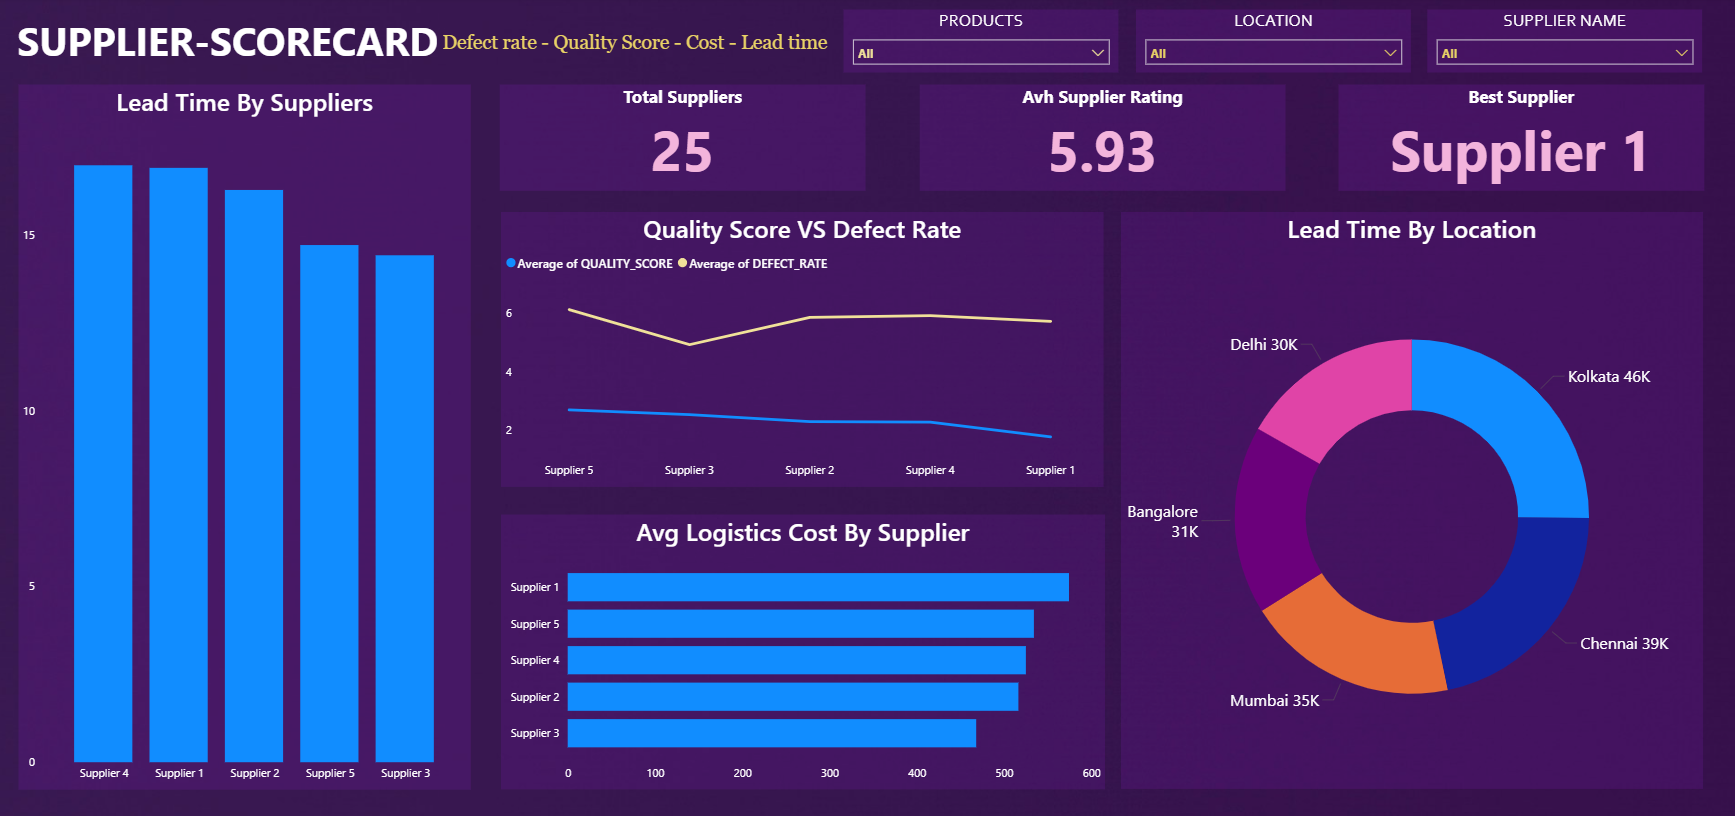

What the dashboard file says about the page in this screenshot:
{"tool":"powerbi","page":{"name":"Supplier Scorecard","canvas":[1900,900],"ordinal":1},"visuals":[{"type":"card","title":"Total Suppliers","fields":{"Values":["suppliers.Total Suppliers"]},"box":[550,95.7,399.2,116.1],"z":0},{"type":"card","title":"Avh Supplier Rating","fields":{"Values":["suppliers.Avg Supplier Rating"]},"box":[1008.3,95.7,399.2,116.1],"z":1000},{"type":"card","title":"Best Supplier","fields":{"Values":["suppliers.Best Supplier"]},"box":[1464.5,95.7,399.2,116.1],"z":2000},{"type":"columnChart","title":"Lead Time By Suppliers","fields":{"Category":["suppliers.SUPPLIER_NAME"],"Y":["Avg(orders.LEAD_TIME_DAYS)"]},"box":[24.2,94.9,493.6,769.8],"z":3000},{"type":"lineChart","title":"Quality Score VS Defect Rate","fields":{"Y":["Avg(logistics.QUALITY_SCORE)","Avg(logistics.DEFECT_RATE)"],"Category":["suppliers.SUPPLIER_NAME"]},"box":[550.6,234.7,657.6,300.3],"z":4000},{"type":"barChart","title":" Avg Logistics Cost By Supplier ","fields":{"Category":["suppliers.SUPPLIER_NAME"],"Y":["Avg(logistics.TOTAL_LOGISTICS_COST)"]},"box":[550.6,564.4,659.3,300.3],"z":5000},{"type":"donutChart","title":"Lead Time By Location","fields":{"Y":["Sum(orders.LEAD_TIME_DAYS)"],"Category":["suppliers.WAREHOUSE_LOCATION"]},"box":[1227.2,234.7,635.2,630],"z":6000},{"type":"textbox","box":[0,13.8,505.7,67.3],"z":7000},{"type":"textbox","box":[469.5,32.8,455.7,48.3],"z":8000},{"type":"slicer","title":"SUPPLIER NAME","fields":{"Values":["suppliers.SUPPLIER_NAME"]},"box":[1562.1,13.8,300.3,69],"z":9000},{"type":"slicer","title":"LOCATION","fields":{"Values":["suppliers.WAREHOUSE_LOCATION"]},"box":[1244.5,13.8,300.3,69],"z":10000},{"type":"slicer","title":"PRODUCTS","fields":{"Values":["suppliers.SUPPLIER_NAME"]},"box":[925.1,13.8,300.3,69],"z":11000}]}

Visuals, with their boxes in screenshot pixels (x1, y1, x2, y2), scaled from the page's 1900x900 canvas onto the 1735x816 screenshot:
"Total Suppliers" card: [left=502, top=87, right=867, bottom=192]
"Avh Supplier Rating" card: [left=921, top=87, right=1285, bottom=192]
"Best Supplier" card: [left=1337, top=87, right=1702, bottom=192]
"Lead Time By Suppliers" columnChart: [left=22, top=86, right=473, bottom=784]
"Quality Score VS Defect Rate" lineChart: [left=503, top=213, right=1103, bottom=485]
" Avg Logistics Cost By Supplier " barChart: [left=503, top=512, right=1105, bottom=784]
"Lead Time By Location" donutChart: [left=1121, top=213, right=1701, bottom=784]
textbox: [left=0, top=13, right=462, bottom=74]
textbox: [left=429, top=30, right=845, bottom=74]
"SUPPLIER NAME" slicer: [left=1426, top=13, right=1701, bottom=75]
"LOCATION" slicer: [left=1136, top=13, right=1411, bottom=75]
"PRODUCTS" slicer: [left=845, top=13, right=1119, bottom=75]
